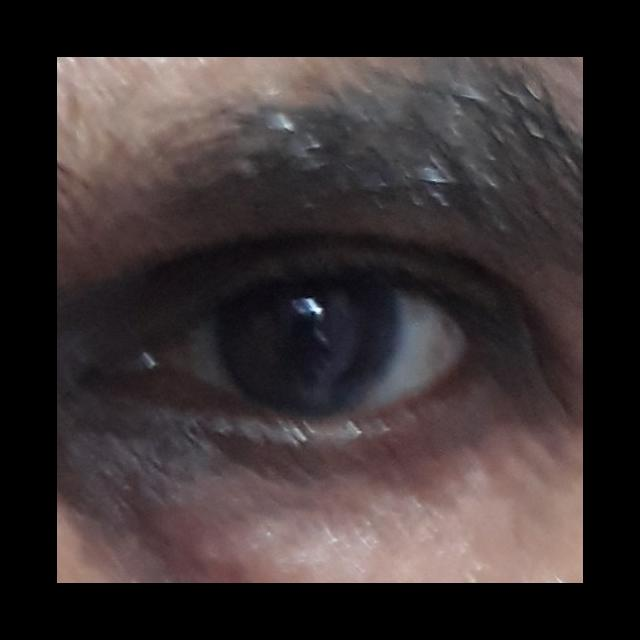eye: (168, 285, 471, 420)
iris: (217, 292, 401, 413)
